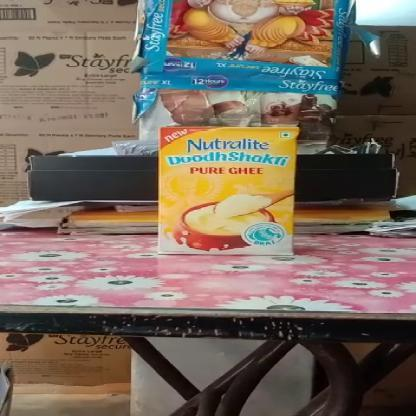Nutralite DOODHSHAKTHI PURE GHEE 1L: (162, 127, 293, 253)
